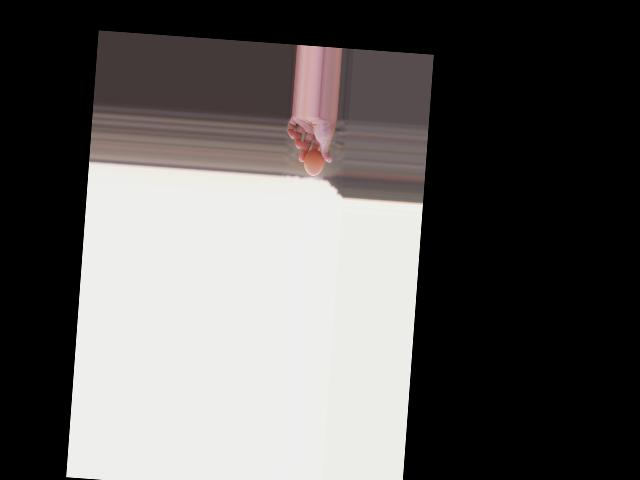egg: (302, 149, 324, 176)
